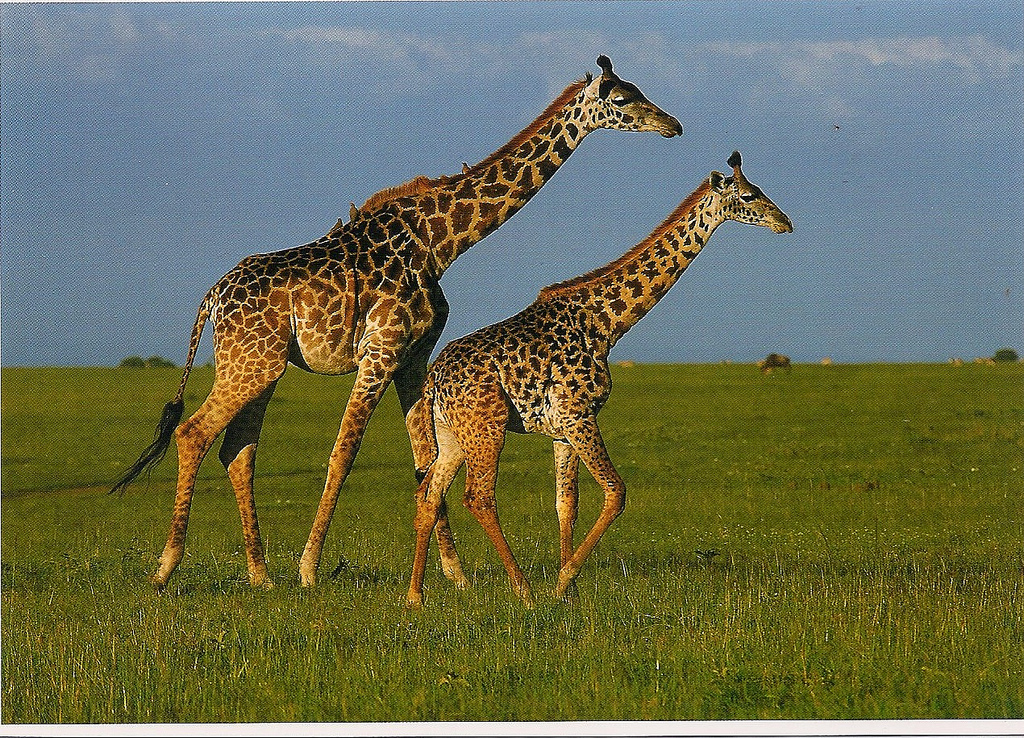giraffe: (168, 26, 673, 567), (397, 159, 835, 579)
